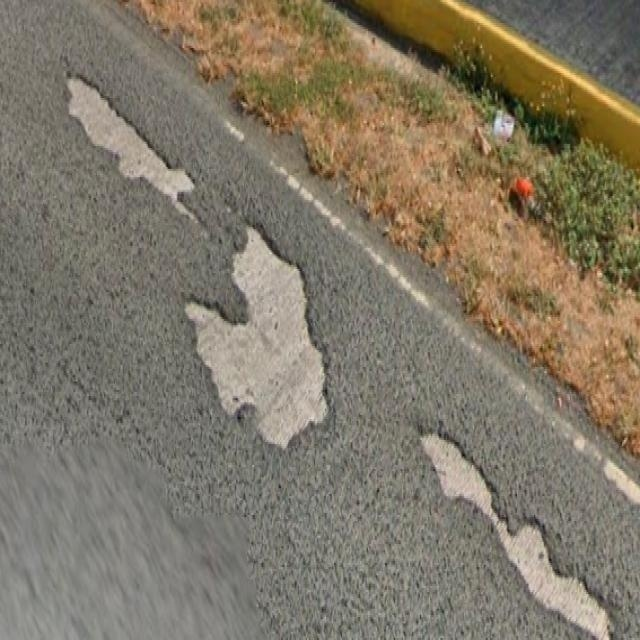pothole: (380, 325, 640, 640), (180, 205, 348, 474), (48, 43, 214, 255)
